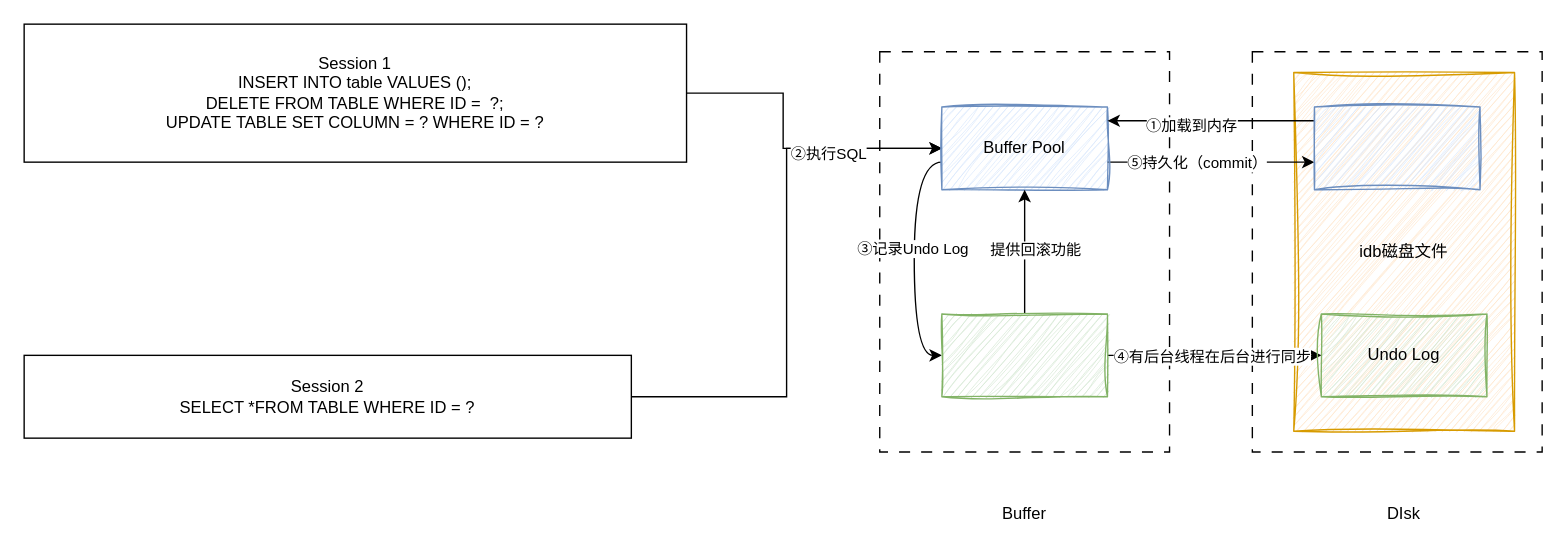
This 1566x559 diagram has some shape labels left out. Here are the shapes that lost their labels. From the top down, the centre of each, then its label:
At point 1396,148: "表空间".
At point 1023,355: "Undo Buffer".
